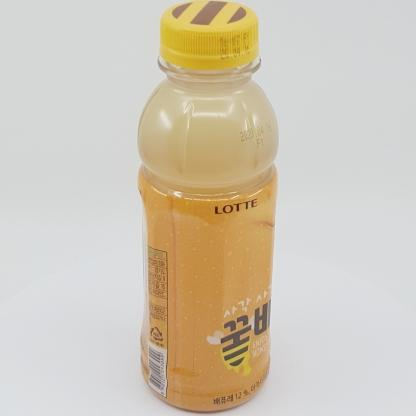--------380ML: (137, 0, 279, 411)
